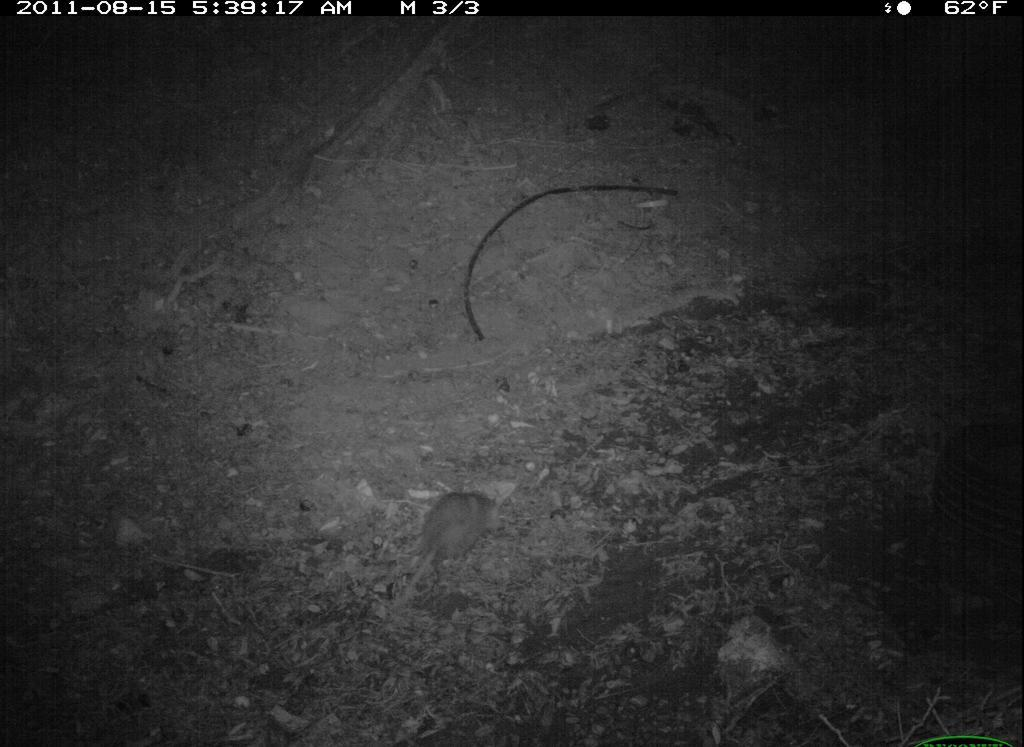opossum: (385, 482, 502, 621)
